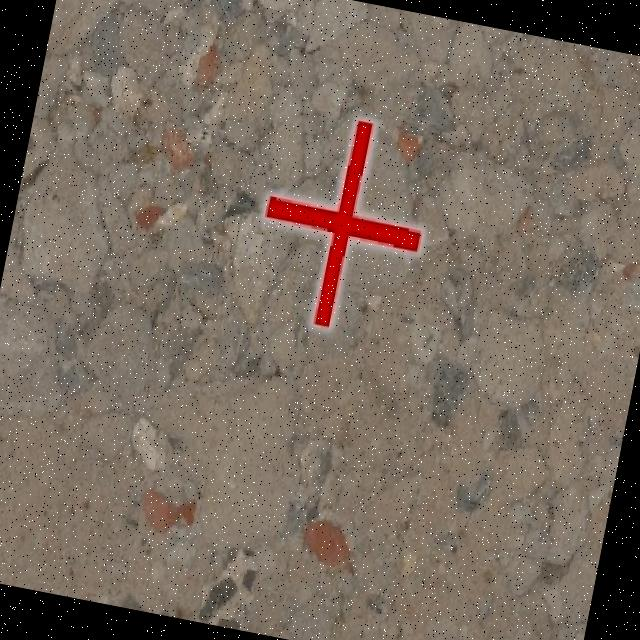x_marker: (245, 106, 440, 340)
